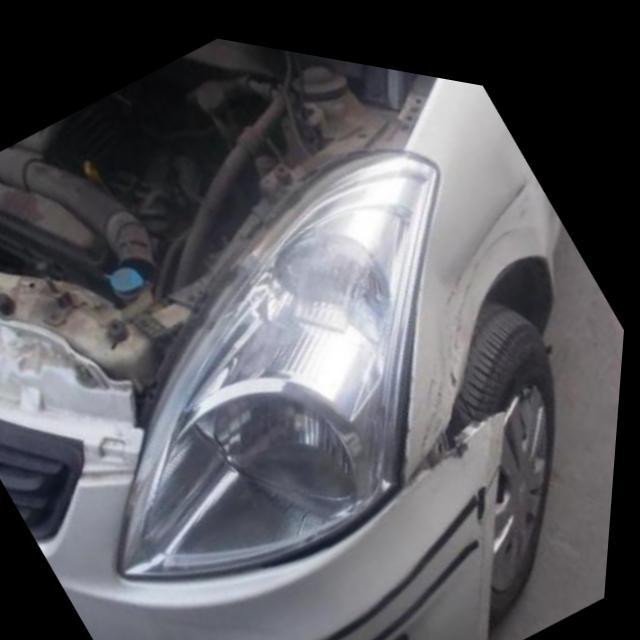crack: (416, 154, 533, 443)
dislocated part: (406, 343, 509, 480)
